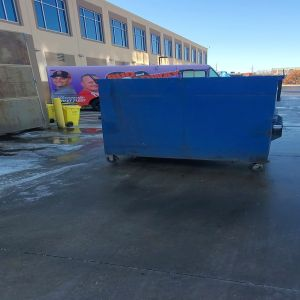Dumpster: (94, 77, 286, 175)
